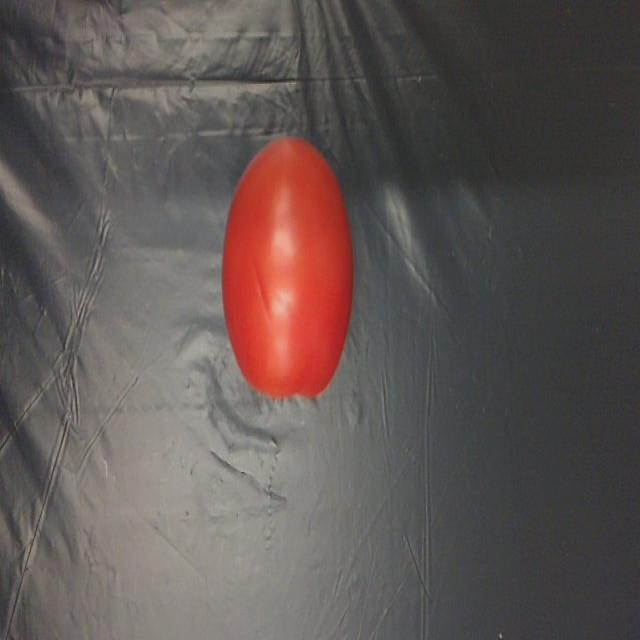kirmizi: (207, 113, 369, 410)
